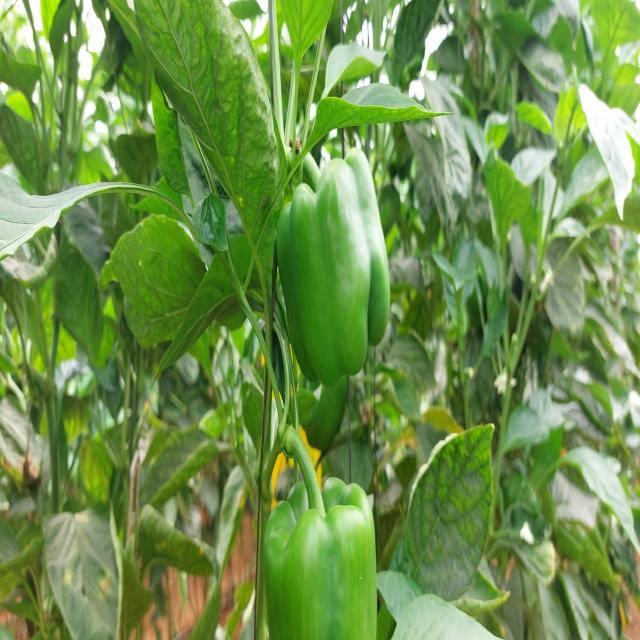Green--Not-ready-to-harvest: (277, 157, 392, 380), (260, 479, 381, 640)
